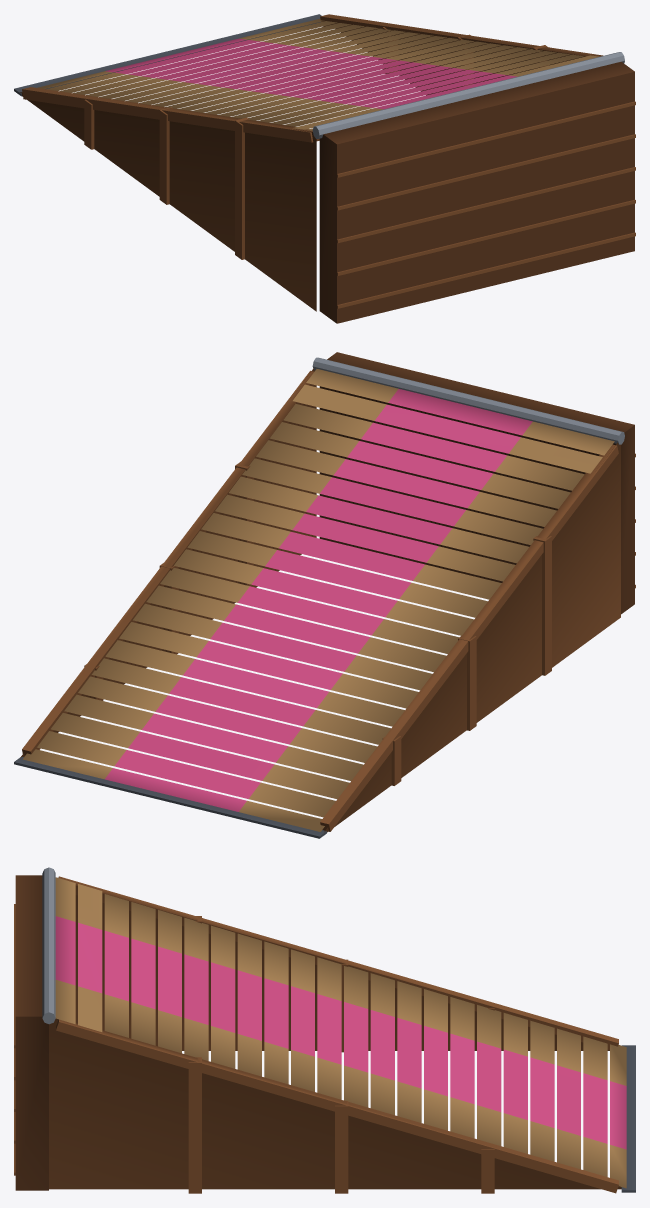
The model's file is m_kicker_pink.glb.
The picture shows the model from 3 angles, top to bottom: view 1: azimuth 30°, elevation 25°; view 2: azimuth 150°, elevation 25°; view 3: azimuth 270°, elevation 25°; orthographic projection. The views are drawn at different scales.
Parts seen in each view (by area): view 1: m_kicker_pink; view 2: m_kicker_pink; view 3: m_kicker_pink.
Boxes of the visible parts, bbox=[...] form: m_kicker_pink: bbox=[14, 14, 635, 323]; m_kicker_pink: bbox=[14, 352, 635, 838]; m_kicker_pink: bbox=[14, 867, 635, 1193].
Size of the model in its own units: 4.16 by 2.39 by 7.44.
